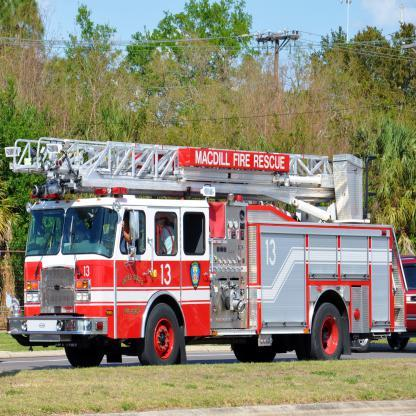fire-truck: (4, 75, 407, 399)
